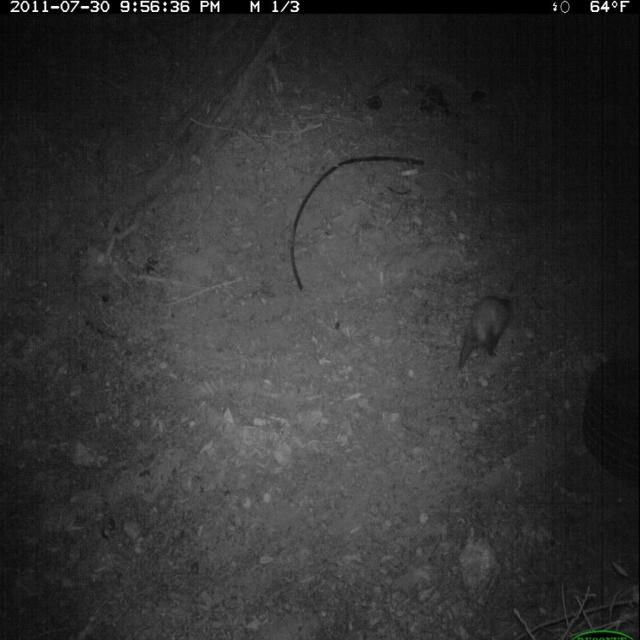opossum: (455, 290, 519, 387)
